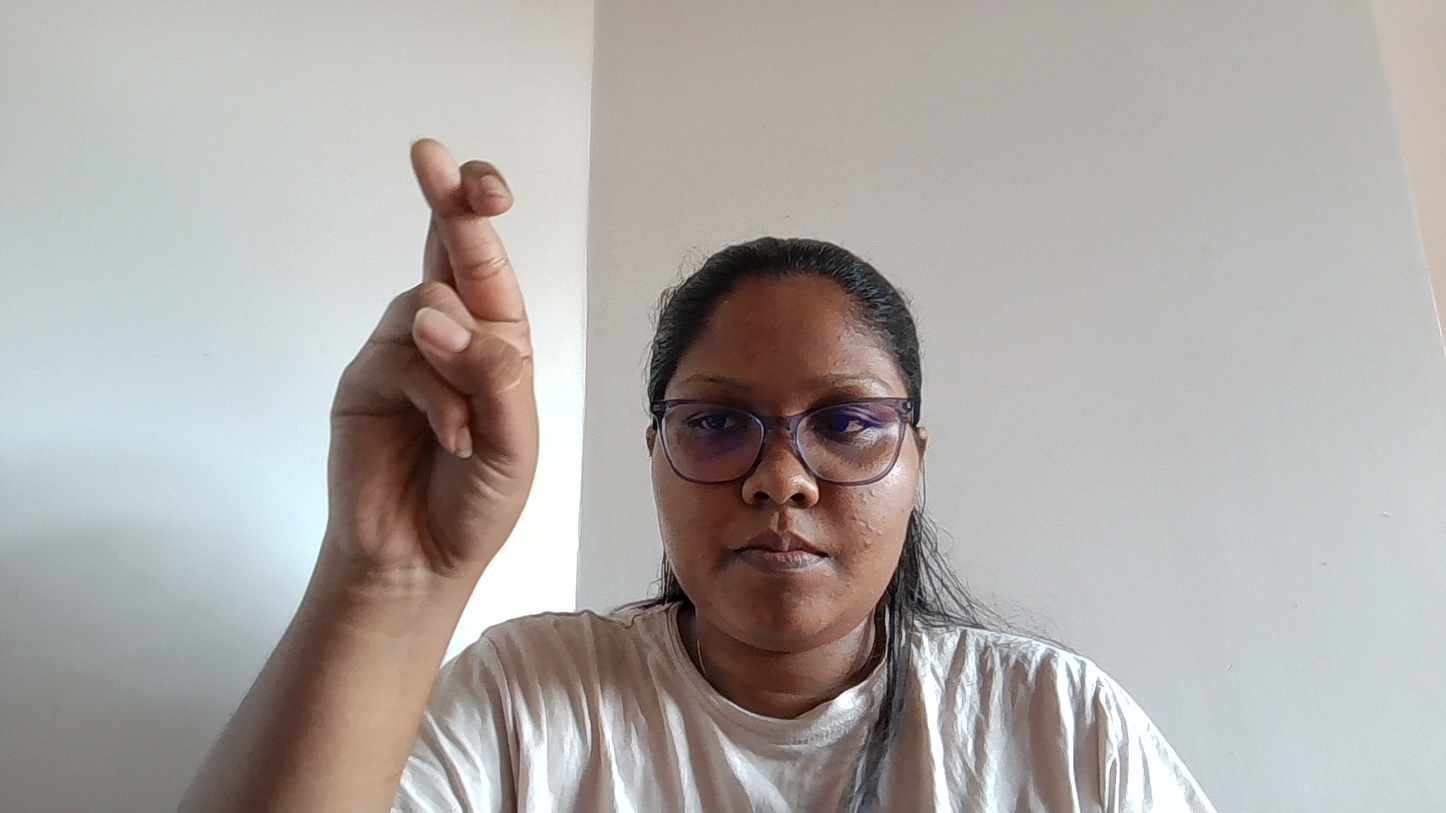Good_Luck: (213, 88, 602, 626)
